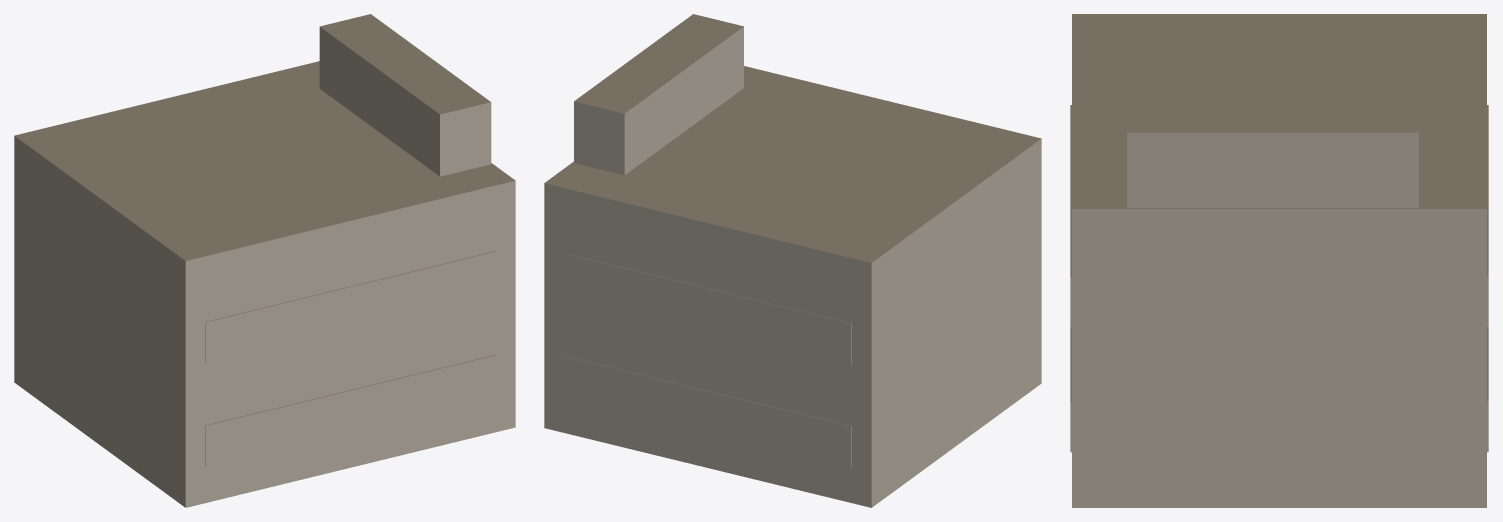
File: bay-villa-cream.far-facades-v3.lod2.glb
3 views of the same model, side by side, from view 1: azimuth 30°, elevation 25°; view 2: azimuth 150°, elevation 25°; view 3: azimuth 270°, elevation 25° (orthographic). The views are drawn at different scales.
Parts seen in each view (by area): view 1: bay-villa-cream; view 2: bay-villa-cream; view 3: bay-villa-cream.
Part boxes in pixels (x1,y1,x2,y2): bay-villa-cream: (14,14,515,507); bay-villa-cream: (544,14,1041,507); bay-villa-cream: (1070,14,1488,507).
Bounding box in the file's own units: 10 × 8.95 × 9.06.
